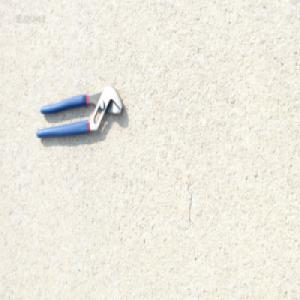Pliers: (35, 83, 124, 140)
